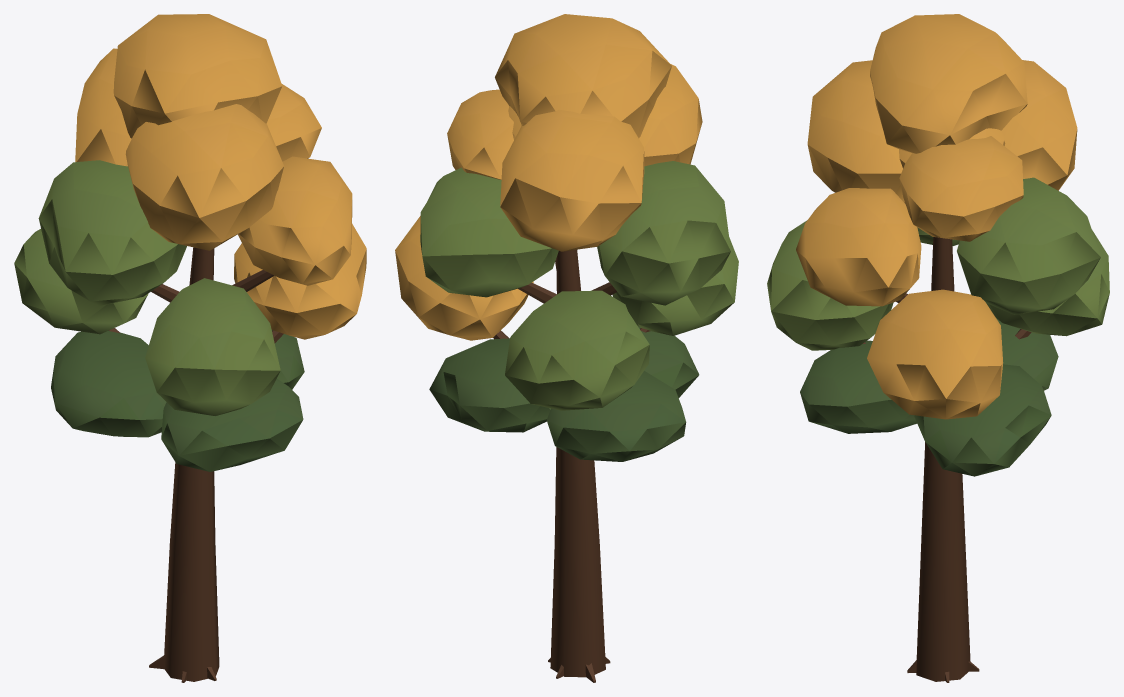
The model's file is tree_maple_a.glb.
3 renders of one model, left to right at view 1: azimuth 30°, elevation 25°; view 2: azimuth 150°, elevation 25°; view 3: azimuth 270°, elevation 25°, orthographic.
Parts seen in each view (by area): view 1: maple_canopy_00, maple_canopy_01, maple_canopy_under_0, maple_limb_0_0; view 2: maple_canopy_00, maple_canopy_01, maple_canopy_under_0, maple_limb_0_0; view 3: maple_canopy_00, maple_canopy_01, maple_canopy_under_0, maple_limb_0_0.
Boxes of the visible parts, x1,y1,x2,y2 form: maple_canopy_00: [75, 14, 366, 339]; maple_canopy_01: [14, 160, 280, 415]; maple_canopy_under_0: [51, 330, 304, 471]; maple_limb_0_0: [109, 247, 283, 682]; maple_canopy_00: [395, 14, 702, 340]; maple_canopy_01: [420, 161, 738, 410]; maple_canopy_under_0: [429, 326, 699, 461]; maple_limb_0_0: [493, 249, 650, 682]; maple_canopy_00: [796, 14, 1077, 419]; maple_canopy_01: [767, 177, 1109, 350]; maple_canopy_under_0: [800, 318, 1058, 476]; maple_limb_0_0: [863, 237, 1031, 682].
Bounding box in the file's own units: 3.68 × 7.2 × 3.47.
